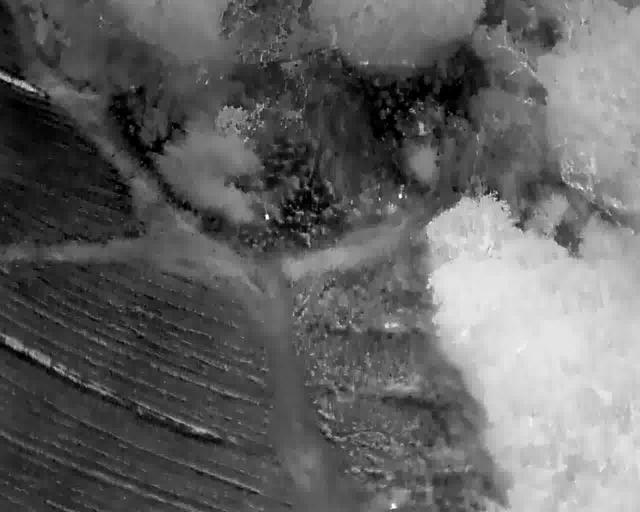car: (304, 430, 323, 479)
person: (365, 299, 371, 311), (292, 464, 297, 471)
